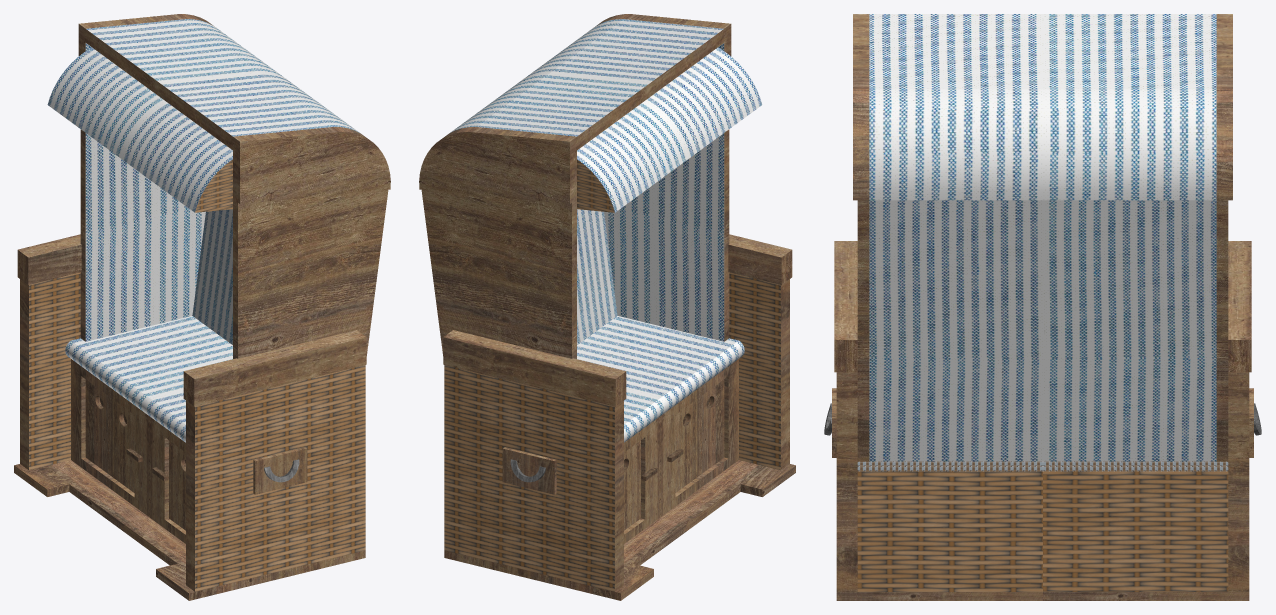
Rendered from strandkorb.obj.
3 views of the same model, side by side, from view 1: azimuth 30°, elevation 25°; view 2: azimuth 150°, elevation 25°; view 3: azimuth 270°, elevation 25° (orthographic). The views are drawn at different scales.
Visible parts, largest first — view 1: Strandkorb; view 2: Strandkorb; view 3: Strandkorb.
Boxes of the visible parts, bbox=[...] form: Strandkorb: bbox=[14, 14, 390, 600]; Strandkorb: bbox=[419, 14, 795, 600]; Strandkorb: bbox=[824, 14, 1261, 600].
Size of the model in its own units: 1.43 by 2.88 by 2.2.
Materials: 1 (1 with a texture image).
